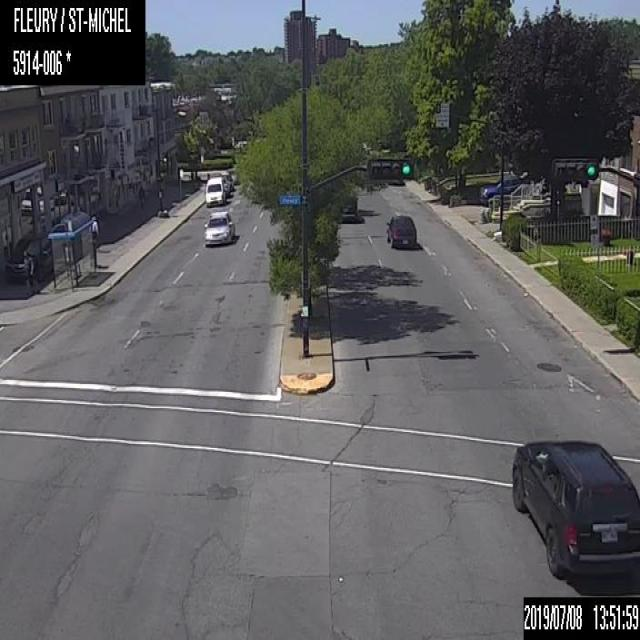pedestrian: (87, 213, 98, 266), (22, 248, 32, 291), (138, 183, 145, 213)
vehicle: (510, 436, 639, 581), (4, 228, 52, 278), (476, 174, 524, 208), (384, 211, 416, 248), (202, 210, 234, 246), (203, 174, 226, 205), (339, 191, 357, 221)
